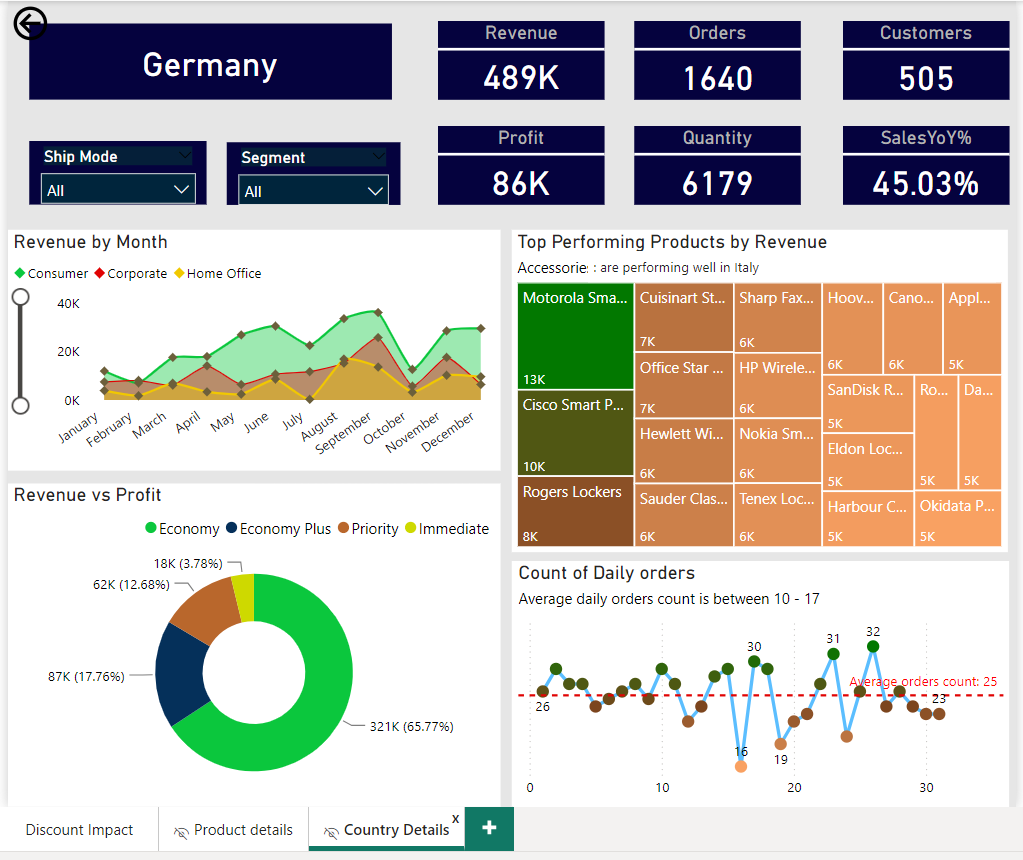

This screenshot's page, from the dashboard's own definition file:
{"tool":"powerbi","page":{"name":"Country  Details","canvas":[900,720],"ordinal":4},"visuals":[{"type":"card","title":"Country","fields":{"Values":["Min(ListOfOrders.Country)"]},"box":[19,20.1,323.7,68.1],"z":0},{"type":"donutChart","title":"Revenue vs Profit","fields":{"Y":["Sum(OrderBreakdown.Sales)"],"Category":["ListOfOrders.Ship Mode"]},"box":[0,430.9,439.8,289.1],"z":1000},{"type":"cardVisual","fields":{"Data":["OrderBreakdown.Total Sales"]},"box":[913.9,0,248.4,119.4],"z":2000},{"type":"actionButton","box":[0,0,100,40],"z":3000},{"type":"card","title":"Revenue","fields":{"Values":["OrderBreakdown.Total Sales"]},"box":[384,17.9,149,70],"z":4000},{"type":"card","title":"Profit","fields":{"Values":["OrderBreakdown.Total Profit"]},"box":[384,111.6,148.5,70.3],"z":5000},{"type":"card","title":"Customers","fields":{"Values":["ListOfOrders.Customers"]},"box":[745.7,17.9,148.5,70.3],"z":6000},{"type":"card","title":"Quantity","fields":{"Values":["OrderBreakdown.Quantity Sold"]},"box":[559.3,111.6,148.5,70.3],"z":7000},{"type":"card","title":"Orders","fields":{"Values":["ListOfOrders.Orders"]},"box":[559.3,17.9,148.5,70.3],"z":8000},{"type":"treemap","title":"Top Performing Products by Revenue","fields":{"Group":["OrderBreakdown.Product Sub Category"],"Values":["Sum(OrderBreakdown.Sales)"]},"box":[449.9,204.3,443.2,288],"z":9000},{"type":"lineChart","title":"Revenue by Month","fields":{"Y":["OrderBreakdown.Total Sales"],"Category":["ListOfOrders.Order Date.Variation.Date Hierarchy.Month"],"Series":["ListOfOrders.Segment"]},"box":[0,204.3,439.8,215.4],"z":10000},{"type":"slicer","fields":{"Values":["ListOfOrders.Ship Mode"]},"box":[19,125,158.5,56.9],"z":11000},{"type":"slicer","fields":{"Values":["ListOfOrders.Segment"]},"box":[195.3,126.1,155.2,55.8],"z":12000},{"type":"card","title":"SalesYoY%","fields":{"Values":["ListOfOrders.Sales YoY%"]},"box":[745.7,111.6,148.5,70.3],"z":13000},{"type":"scatterChart","title":"Impact of Selling Price on Revenue","fields":{"X":["OrderBreakdown.Selling Price"],"Y":["OrderBreakdown.Sales"],"Size":["Count(OrderBreakdown.Profit)"]},"box":[449.9,500.7,443.1,219.3],"z":14000},{"type":"lineChart","title":"Count of Daily  orders","fields":{"Y":["ListOfOrders.Customers"],"Category":["ListOfOrders.Order Date.Variation.Date Hierarchy.Day"]},"box":[451,500.1,443.2,219.9],"z":15000},{"type":"textbox","box":[518.1,223.3,364,27.9],"z":16000}]}

Visuals, with their boxes on the page's 900x720 design canvas (x1, y1, x2, y2). These are canvas units, not pixel positions in the 1023x860 screenshot, which may show the page scaled, cropped or inside an application window:
"Country" card: x1=19 y1=20 x2=343 y2=88
"Revenue vs Profit" donutChart: x1=0 y1=431 x2=440 y2=720
cardVisual - OrderBreakdown.Total Sales: x1=914 y1=0 x2=1162 y2=119
actionButton: x1=0 y1=0 x2=100 y2=40
"Revenue" card: x1=384 y1=18 x2=533 y2=88
"Profit" card: x1=384 y1=112 x2=532 y2=182
"Customers" card: x1=746 y1=18 x2=894 y2=88
"Quantity" card: x1=559 y1=112 x2=708 y2=182
"Orders" card: x1=559 y1=18 x2=708 y2=88
"Top Performing Products by Revenue" treemap: x1=450 y1=204 x2=893 y2=492
"Revenue by Month" lineChart: x1=0 y1=204 x2=440 y2=420
slicer - ListOfOrders.Ship Mode: x1=19 y1=125 x2=178 y2=182
slicer - ListOfOrders.Segment: x1=195 y1=126 x2=350 y2=182
"SalesYoY%" card: x1=746 y1=112 x2=894 y2=182
"Impact of Selling Price on Revenue" scatterChart: x1=450 y1=501 x2=893 y2=720
"Count of Daily  orders" lineChart: x1=451 y1=500 x2=894 y2=720
textbox: x1=518 y1=223 x2=882 y2=251
